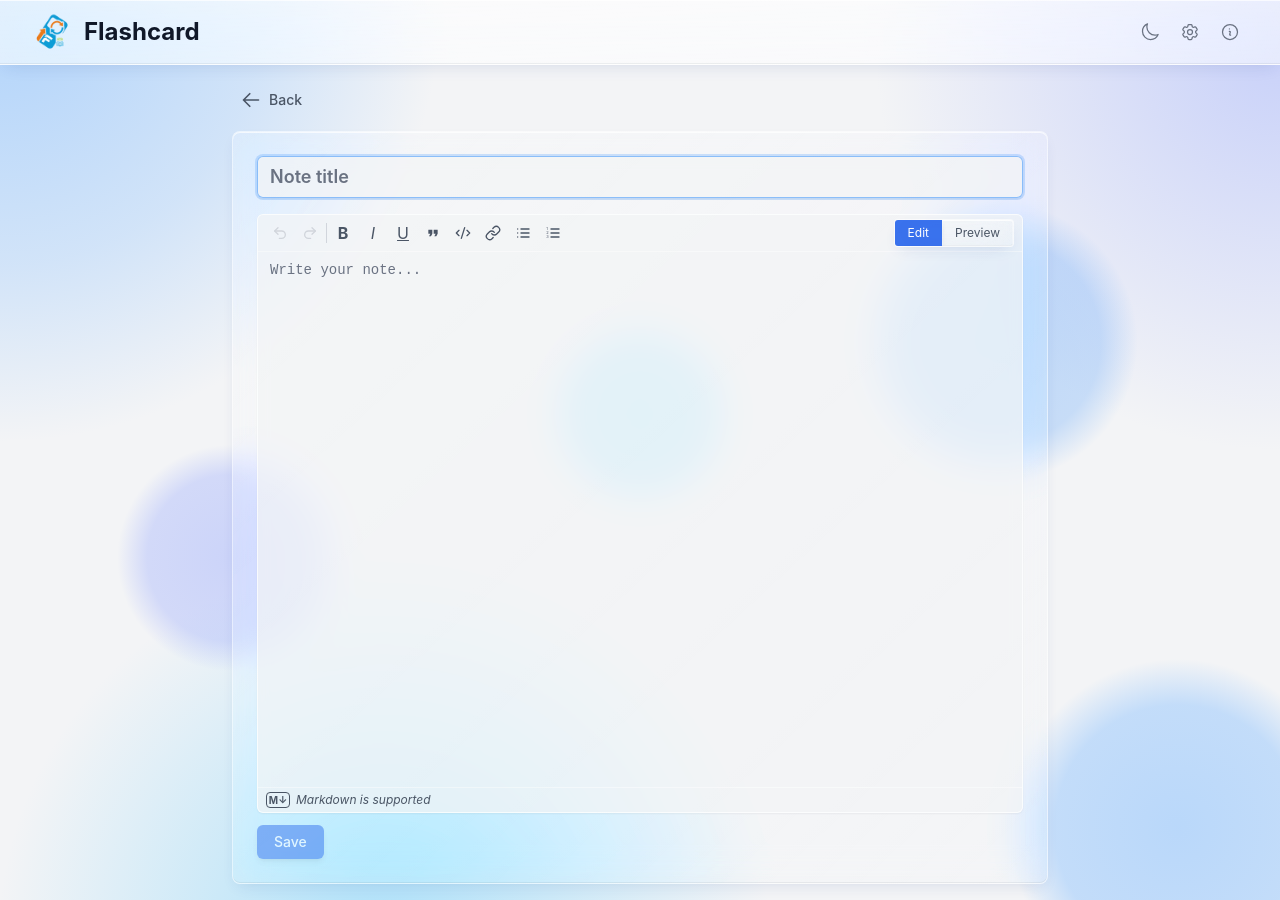
Test: NoteCreatePage › confirms before leaving when Back is pressed and title has been entered and the user discards
In the field with placeholder "Note title": (640, 177) [257,156,1023,198], type "Draft text"
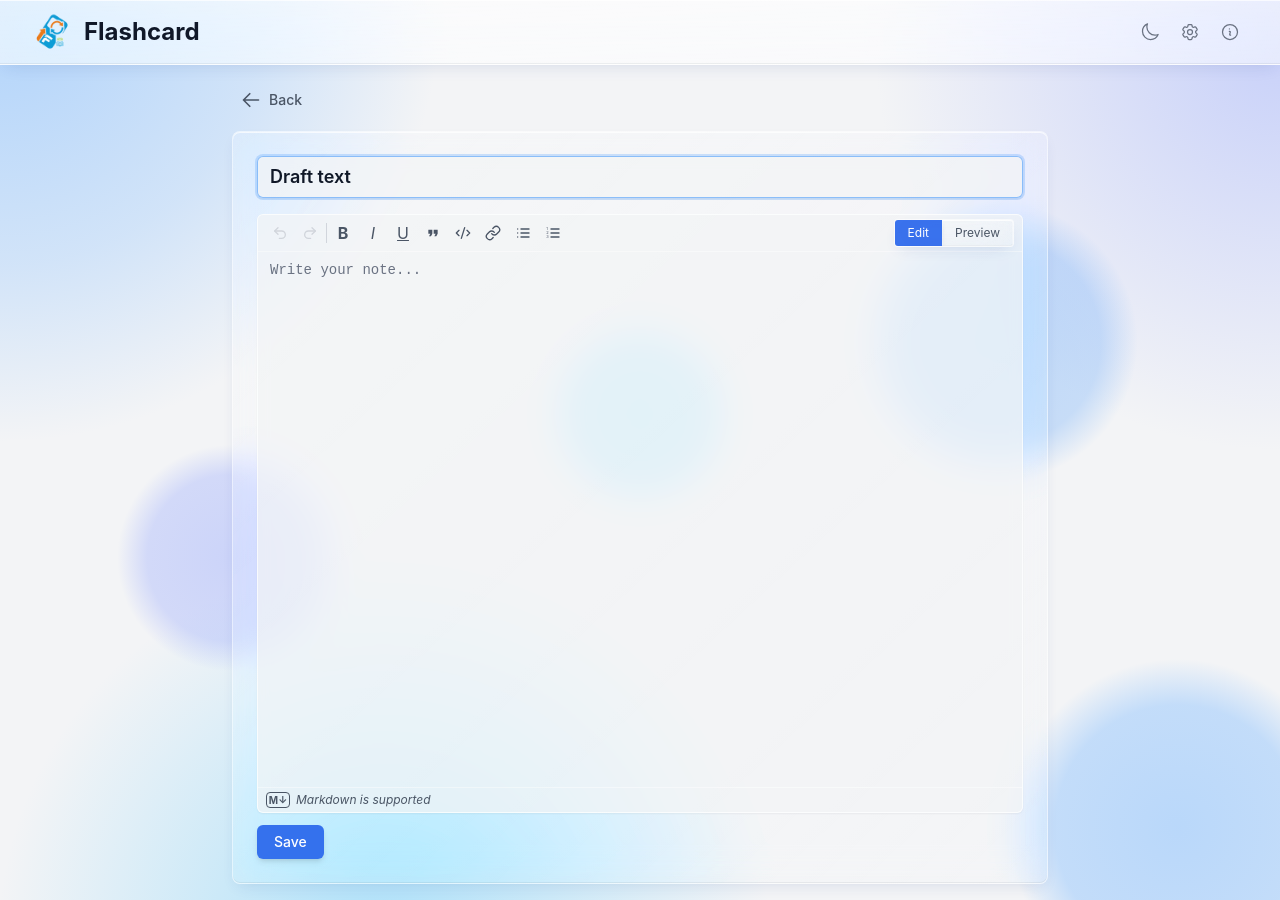
Click the button with aria-label "Go back": (272, 100) [232,81,311,119]
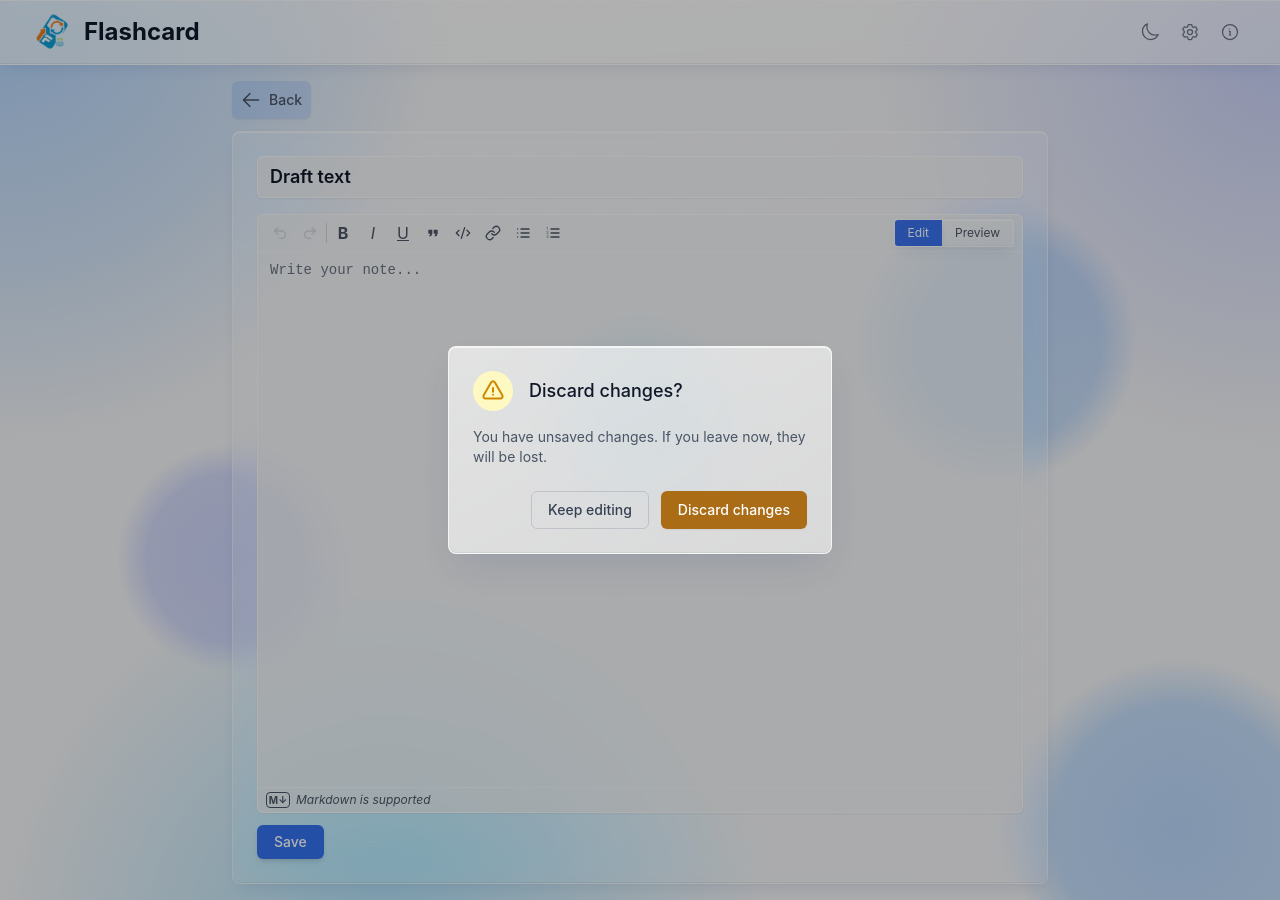
Expected: the heading "Discard changes?" is shown, [529,377,683,405]
Click the button "Discard changes": (734, 510) [661,491,807,529]
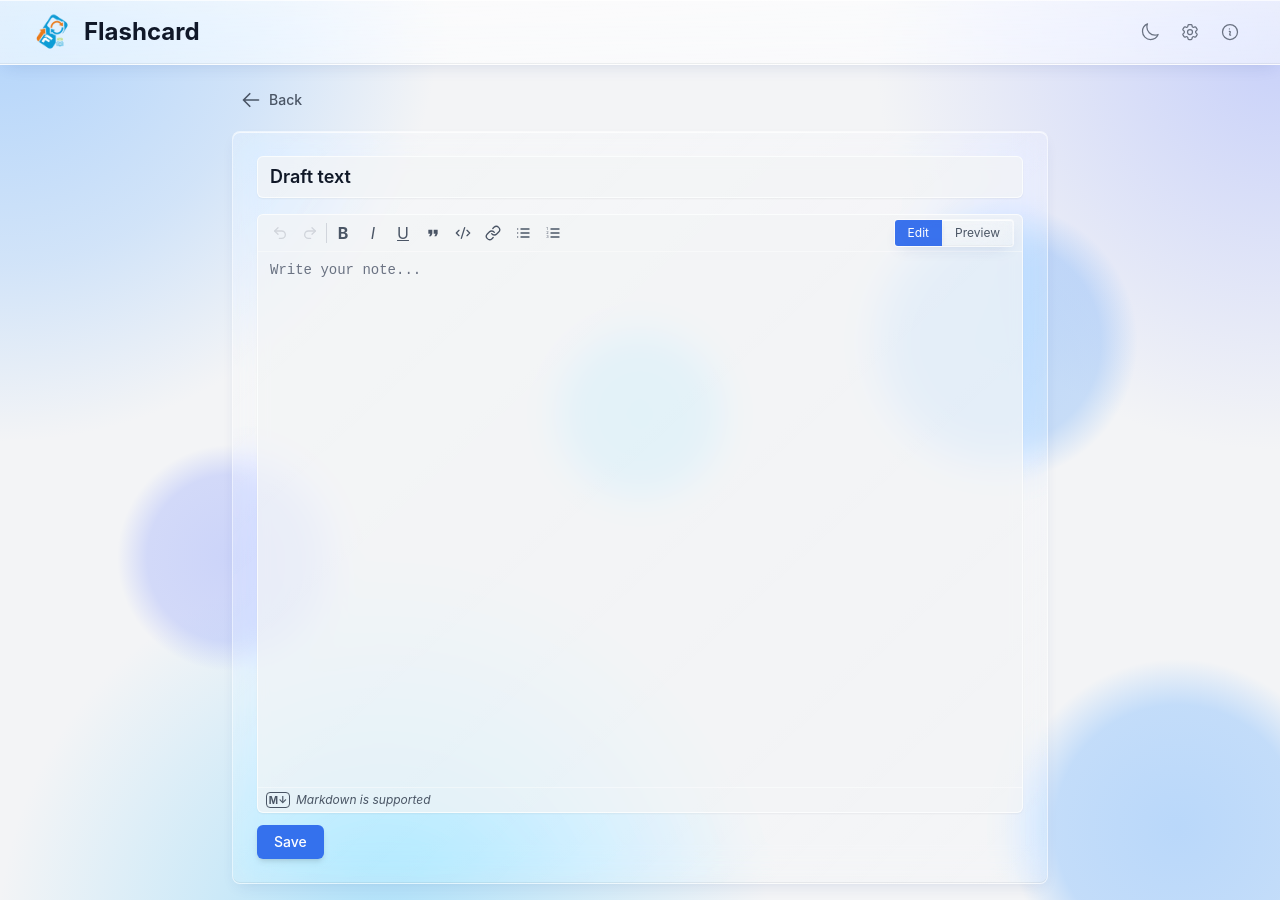
Expected: the heading "Discard changes?" is gone
